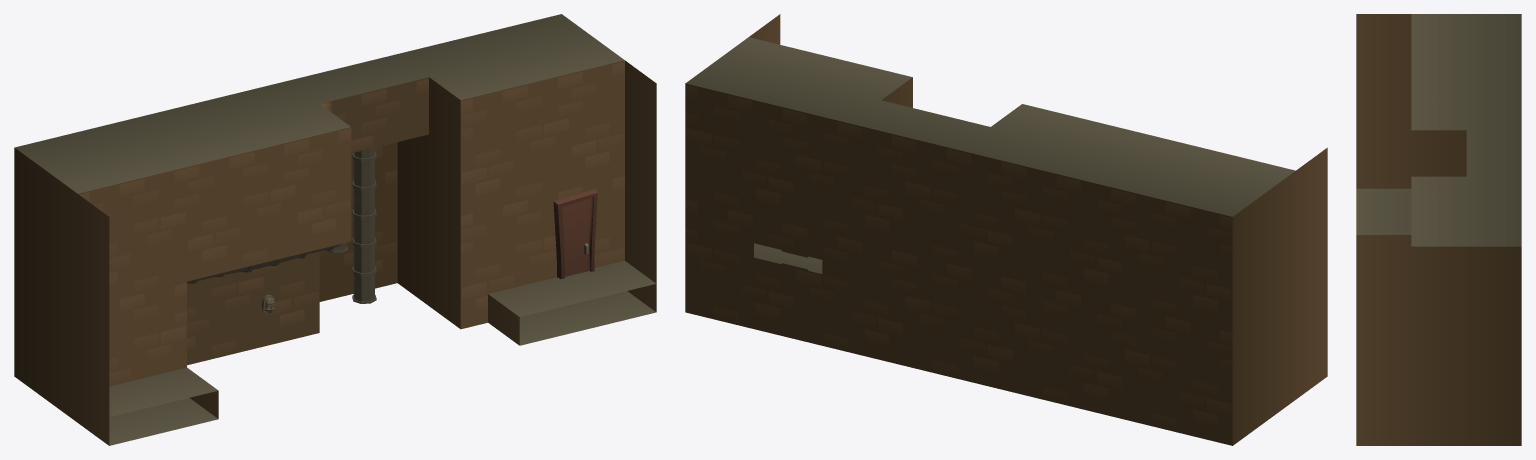
Rendered from Room28_8x20.fbx.
3 views of the same model, side by side, from view 1: azimuth 30°, elevation 25°; view 2: azimuth 150°, elevation 25°; view 3: azimuth 270°, elevation 25° (orthographic). The views are drawn at different scales.
Parts seen in each view (by area): view 1: Room28_8x20; view 2: Room28_8x20; view 3: Room28_8x20.
Part boxes in pixels (x1,y1,x2,y2): Room28_8x20: [14, 14, 656, 445]; Room28_8x20: [685, 14, 1327, 445]; Room28_8x20: [1356, 14, 1521, 445].
Size of the model in its own units: 2000 by 600 by 850.
